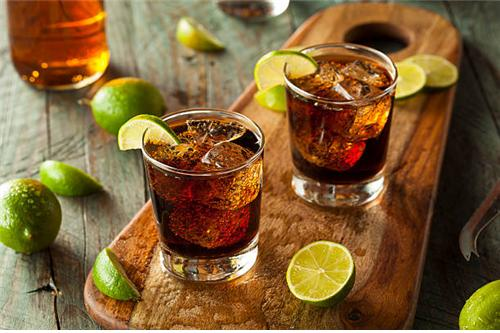alcohol: (138, 110, 263, 283), (285, 43, 397, 208), (5, 0, 108, 94)
